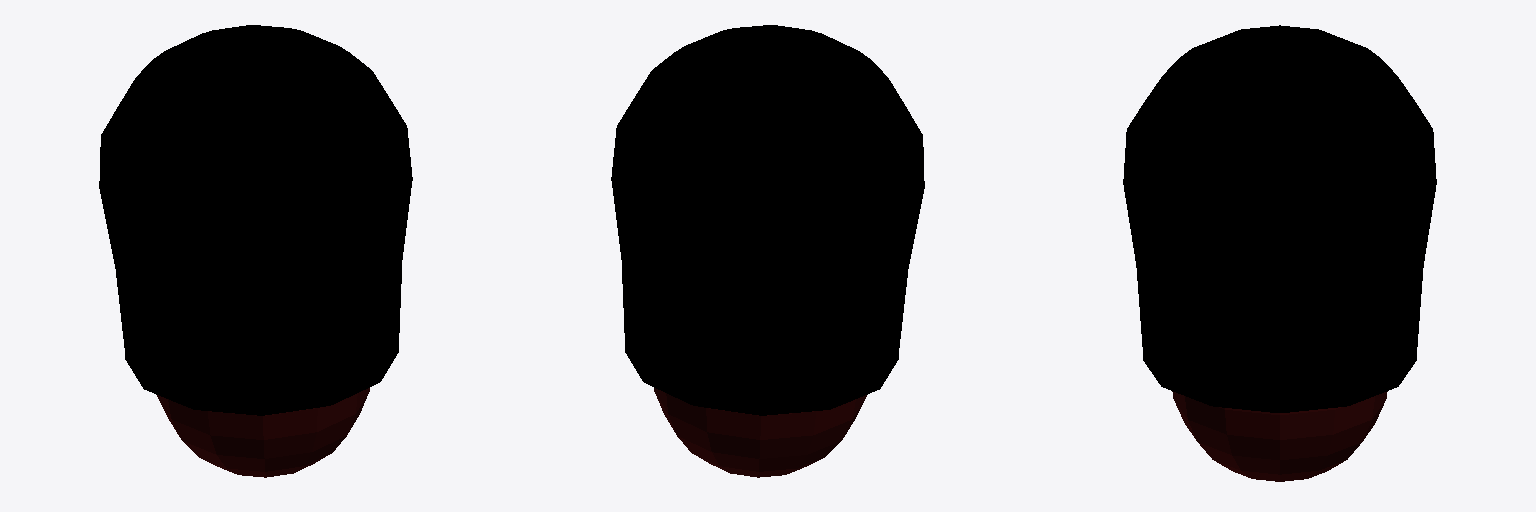
The model's file is headTest.obj.
3 views of the same model, side by side, from view 1: azimuth 30°, elevation 25°; view 2: azimuth 150°, elevation 25°; view 3: azimuth 270°, elevation 25° (orthographic).
Visible parts, largest first — view 1: Mann_Head Mann_Head Mann_UpperBody Mann_FullBody; view 2: Mann_Head Mann_Head Mann_UpperBody Mann_FullBody; view 3: Mann_Head Mann_Head Mann_UpperBody Mann_FullBody.
Boxes of the visible parts, box(x1,y1,x2,y2) form: Mann_Head Mann_Head Mann_UpperBody Mann_FullBody: box(99, 25, 412, 477); Mann_Head Mann_Head Mann_UpperBody Mann_FullBody: box(611, 25, 924, 477); Mann_Head Mann_Head Mann_UpperBody Mann_FullBody: box(1123, 25, 1436, 481).
Bounding box in the file's own units: 70.41 × 106 × 70.46.